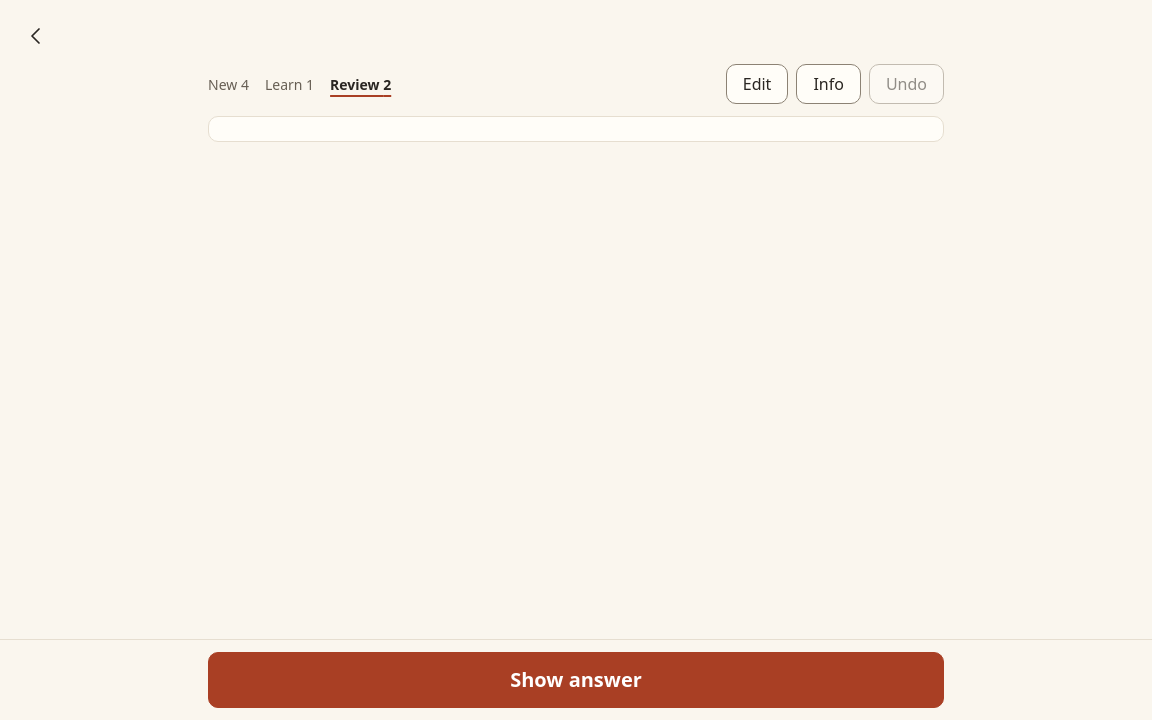
Test: the question and the answer › Show answer reveals four answers, each with when the card comes back
Click the button "Show answer" at (576, 680), box x1=208 y1=652 x2=944 y2=708
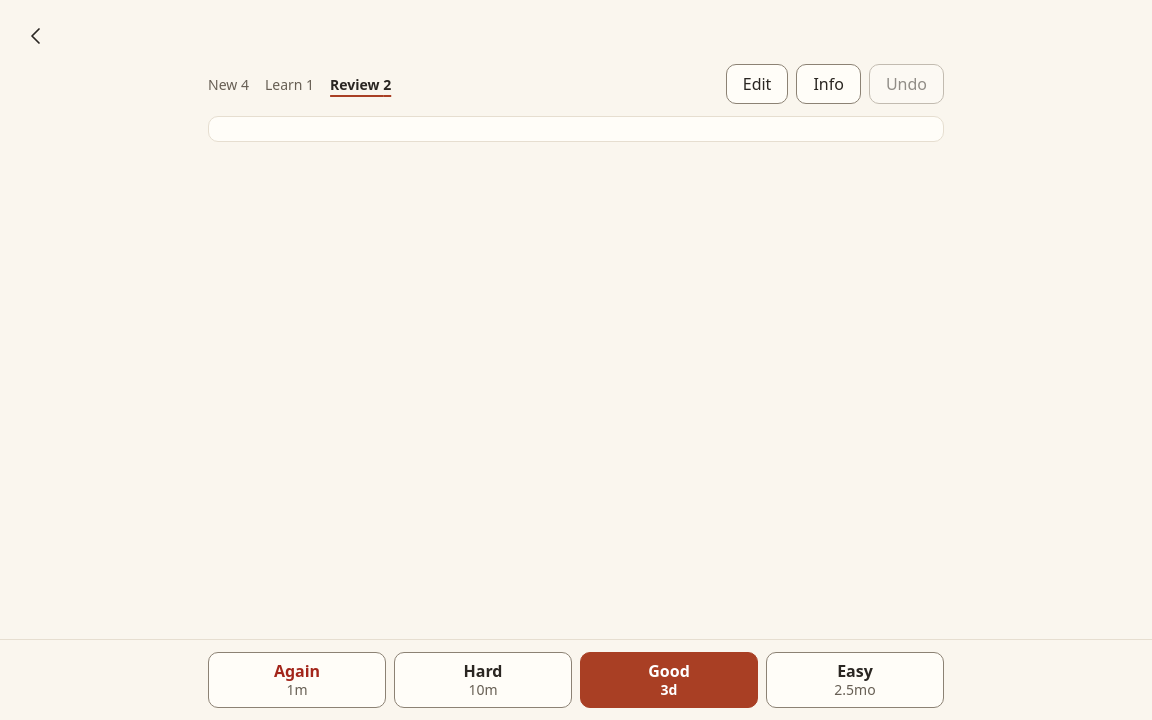
Check: the button "Show answer" is gone
